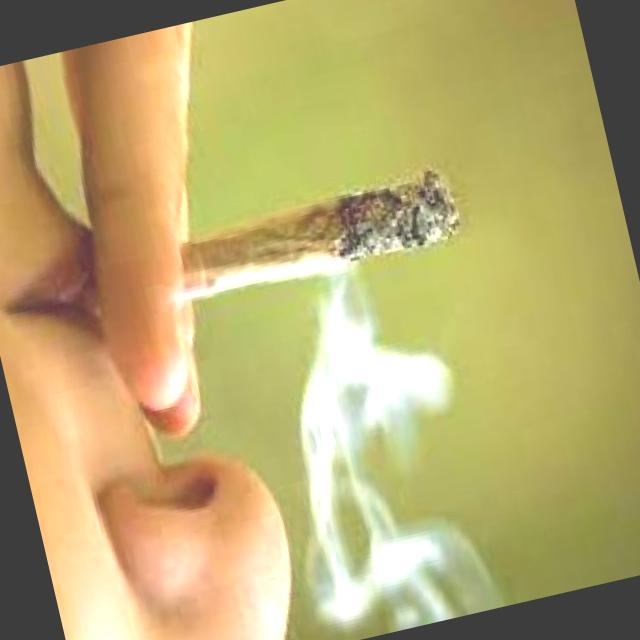cigarette: (169, 156, 480, 347)
